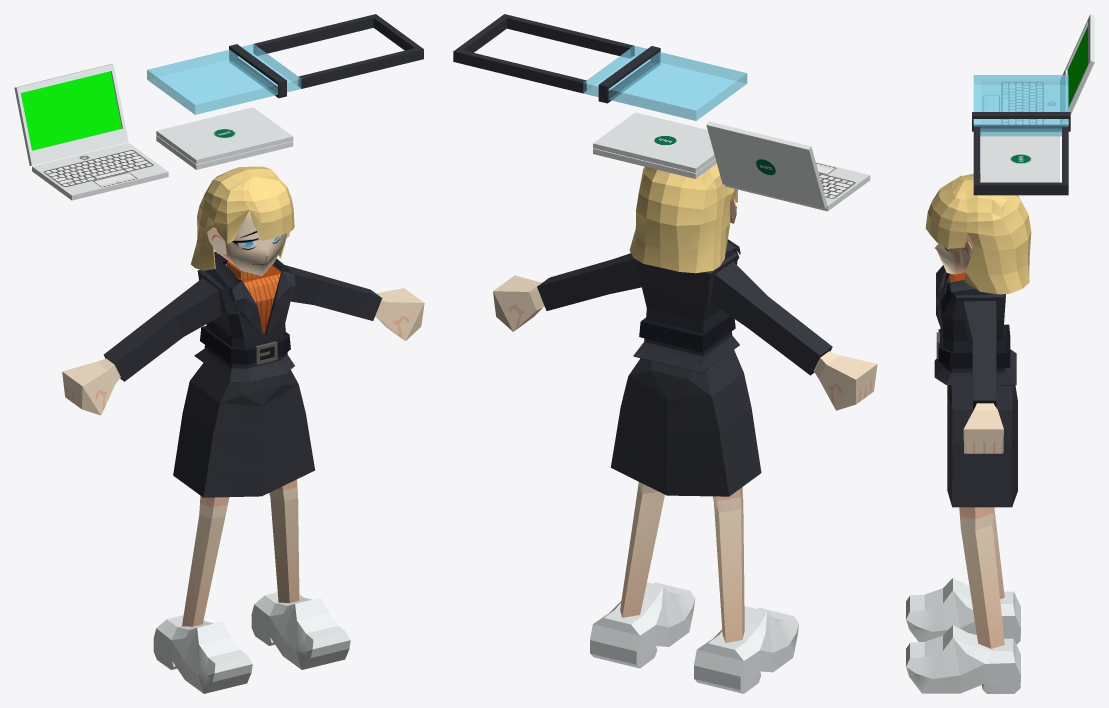
Rendered from Ashley.glb.
The picture shows the model from 3 angles, left to right: view 1: azimuth 30°, elevation 25°; view 2: azimuth 150°, elevation 25°; view 3: azimuth 270°, elevation 25°; orthographic projection. The views are drawn at different scales.
Visible parts, largest first — view 1: Body, cover, Head, laptop screen.001, laptop.001, laptop screen, laptop; view 2: Body, cover, Head, laptop screen.001, laptop screen, laptop.001, laptop; view 3: Body, Head, cover, laptop screen, laptop.001, laptop screen.001.
Boxes of the visible parts, x1,y1,x2,y2 form: Body: (62,251,424,693); cover: (147,14,423,114); Head: (191,166,294,275); laptop screen.001: (14,64,128,165); laptop.001: (32,142,168,200); laptop screen: (156,107,293,164); laptop: (156,135,293,169); Body: (493,239,877,693); cover: (453,14,747,120); Head: (629,164,737,273); laptop screen.001: (706,121,827,208); laptop screen: (593,112,715,172); laptop.001: (725,162,870,211); laptop: (593,148,716,178); Body: (906,265,1020,693); Head: (925,173,1031,294); cover: (972,75,1070,195); laptop screen: (981,136,1059,182); laptop.001: (981,81,1059,124); laptop screen.001: (1060,14,1094,124).
Size of the model in its own units: 1.3 by 2.03 by 0.6176.
Materials: 11 (11 with a texture image).
